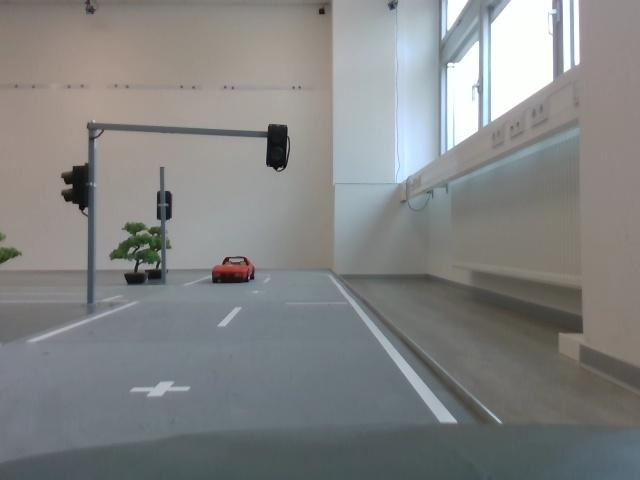car: (210, 255, 256, 285)
potted plant: (108, 220, 155, 290), (143, 226, 177, 292), (1, 232, 23, 272)
traffic light: (60, 160, 101, 218), (263, 119, 298, 176), (151, 184, 177, 219)
